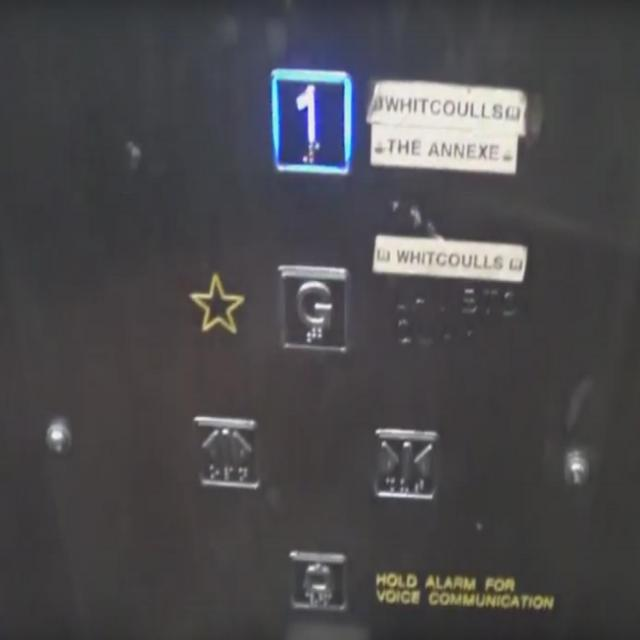1: (267, 58, 355, 182)
G: (275, 259, 351, 362)
alarm: (286, 547, 350, 618)
close: (370, 424, 439, 504)
open: (190, 412, 263, 493)
